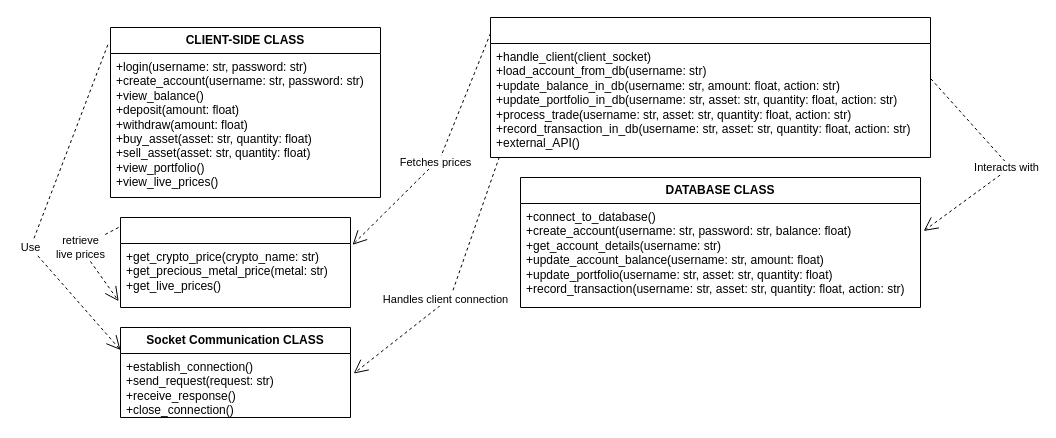
Some shapes in this 1056 by 438 pixel diagram are drawn without their labels. The shapes that lost their labels are listed below. From the top down, each one's box as (x1, y1, x2, y2) in pixels, then its label:
(490, 16, 930, 158): SERVER-SIDE CLASS
(120, 216, 350, 308): External API CLASS
